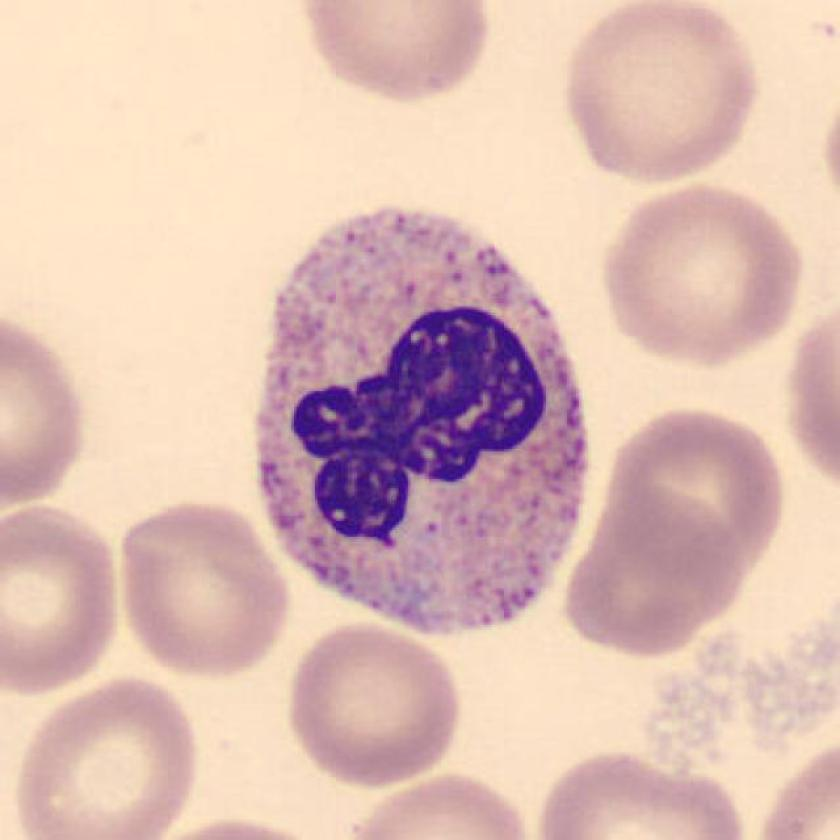neutrophil: (256, 207, 585, 632)
